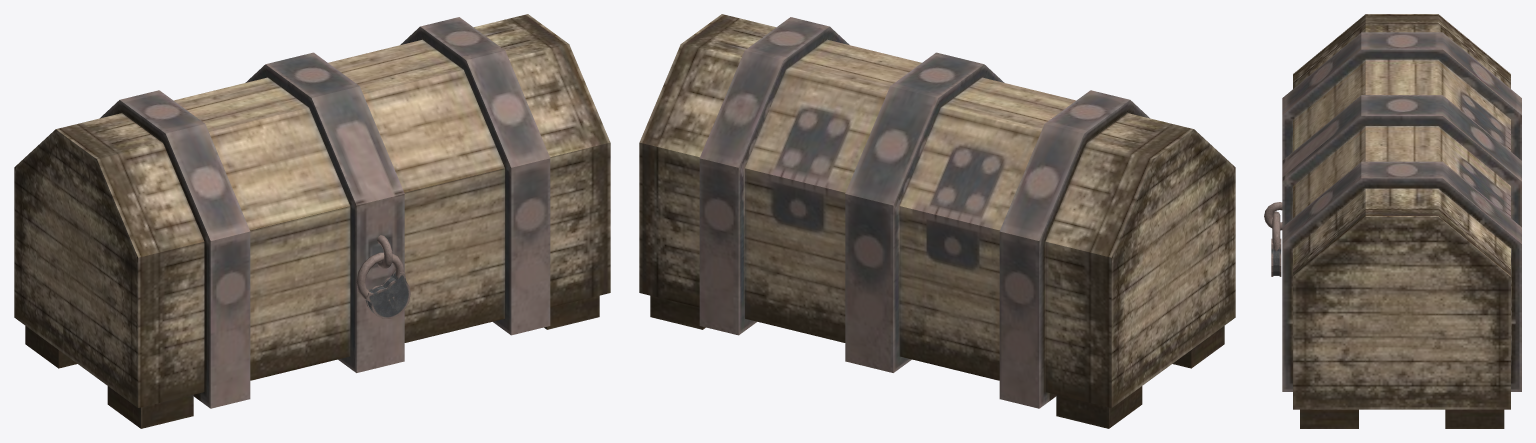
Rendered from chest.glb.
The picture shows the model from 3 angles, left to right: view 1: azimuth 30°, elevation 25°; view 2: azimuth 150°, elevation 25°; view 3: azimuth 270°, elevation 25°; orthographic projection. The views are drawn at different scales.
Parts seen in each view (by area): view 1: LR_Wooden_Crate_01, LR_Padlock_01; view 2: LR_Wooden_Crate_01; view 3: LR_Wooden_Crate_01, LR_Padlock_01, LR_Padlock_02.
Part boxes in pixels (x1,y1,x2,y2): LR_Wooden_Crate_01: (14, 14, 610, 428); LR_Padlock_01: (356, 252, 410, 318); LR_Wooden_Crate_01: (639, 14, 1235, 428); LR_Wooden_Crate_01: (1282, 14, 1521, 428); LR_Padlock_01: (1271, 211, 1281, 276); LR_Padlock_02: (1264, 202, 1282, 230).
Size of the model in its own units: 0.9018 by 0.4659 by 0.4842.
Materials: 3 (3 with a texture image).
